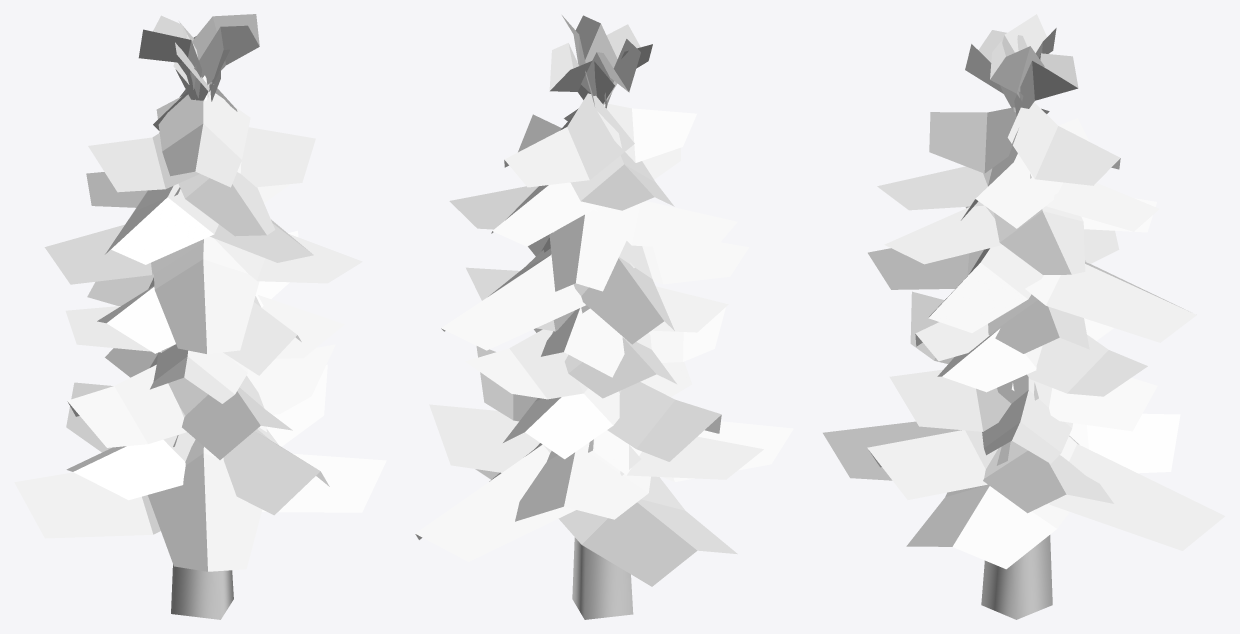
File: pineTree.glb
3 views of the same model, side by side, from view 1: azimuth 30°, elevation 25°; view 2: azimuth 150°, elevation 25°; view 3: azimuth 270°, elevation 25° (orthographic). The views are drawn at different scales.
Visible parts, largest first — view 1: pine_Tree; view 2: pine_Tree; view 3: pine_Tree.
Part boxes in pixels (x1=…): pine_Tree: x1=14, y1=14, x2=386, y2=619; pine_Tree: x1=415, y1=15, x2=793, y2=619; pine_Tree: x1=823, y1=14, x2=1224, y2=619.
Size of the model in its own units: 5.04 by 9.44 by 6.04.
2 materials, 2 textured.
